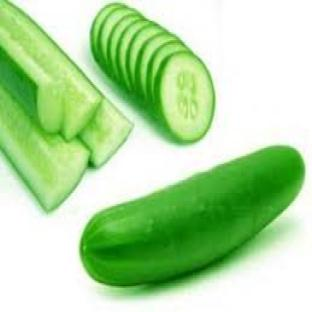Cucumber: (81, 147, 304, 286), (99, 7, 214, 143), (0, 2, 101, 139), (0, 84, 89, 210), (0, 28, 62, 131), (155, 52, 214, 143), (80, 99, 133, 167), (135, 33, 177, 99), (146, 41, 187, 102), (127, 23, 163, 90), (98, 7, 133, 75), (108, 13, 142, 80), (117, 20, 149, 90), (91, 4, 124, 61)
